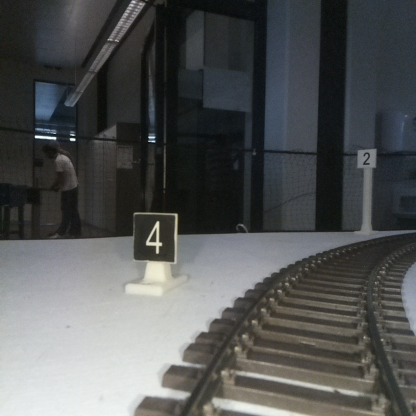black-stop-4: (133, 214, 175, 292)
white-info-2: (357, 149, 376, 231)
